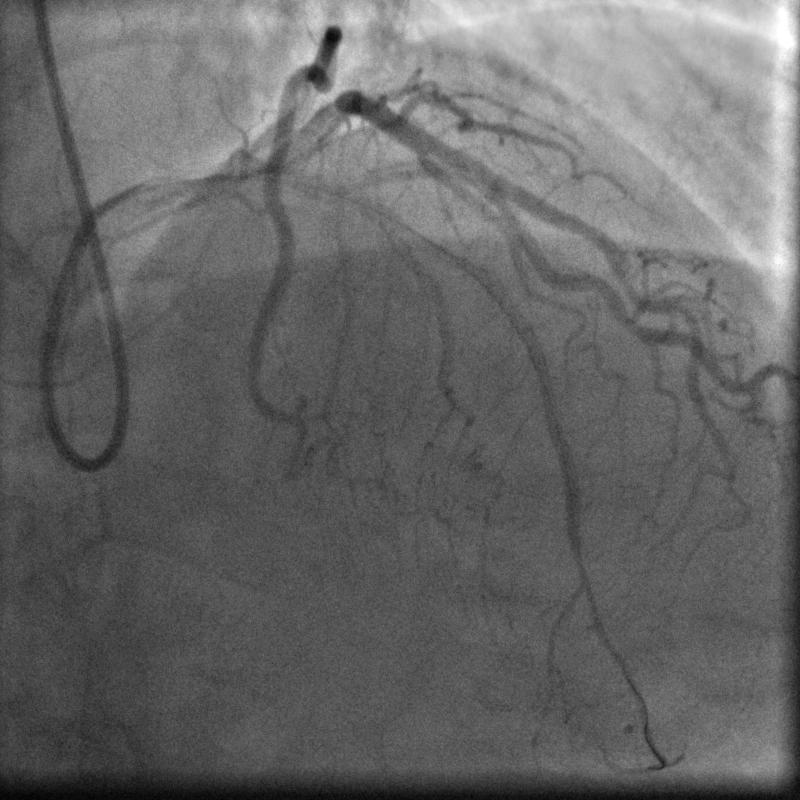Stenosis: (451, 153, 498, 196)
